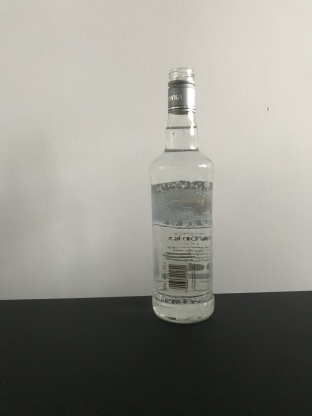nakretka: (166, 65, 197, 114)
